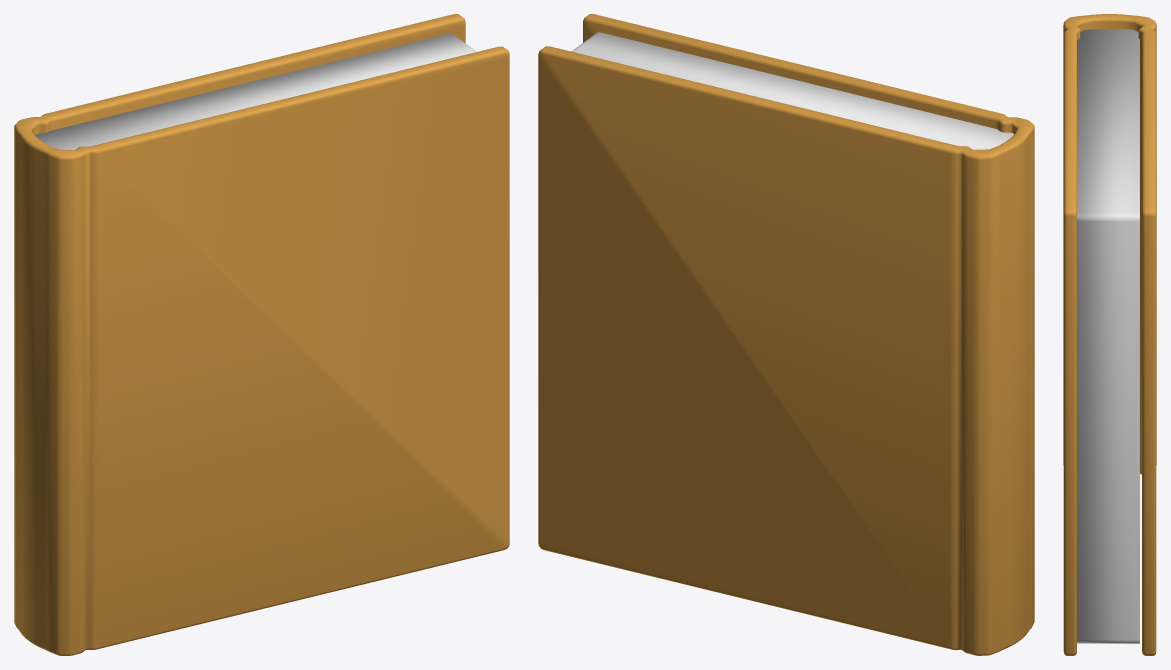
File: book_yellow.fbx
3 renders of one model, left to right at view 1: azimuth 30°, elevation 25°; view 2: azimuth 150°, elevation 25°; view 3: azimuth 270°, elevation 25°, orthographic. The views are drawn at different scales.
Parts seen in each view (by area): view 1: Cube.013; view 2: Cube.013; view 3: Cube.013.
Boxes of the visible parts, x1,y1,x2,y2 form: Cube.013: [14, 14, 509, 655]; Cube.013: [538, 14, 1034, 655]; Cube.013: [1063, 14, 1156, 655].
Size of the model in its own units: 313 by 327 by 61.89.
